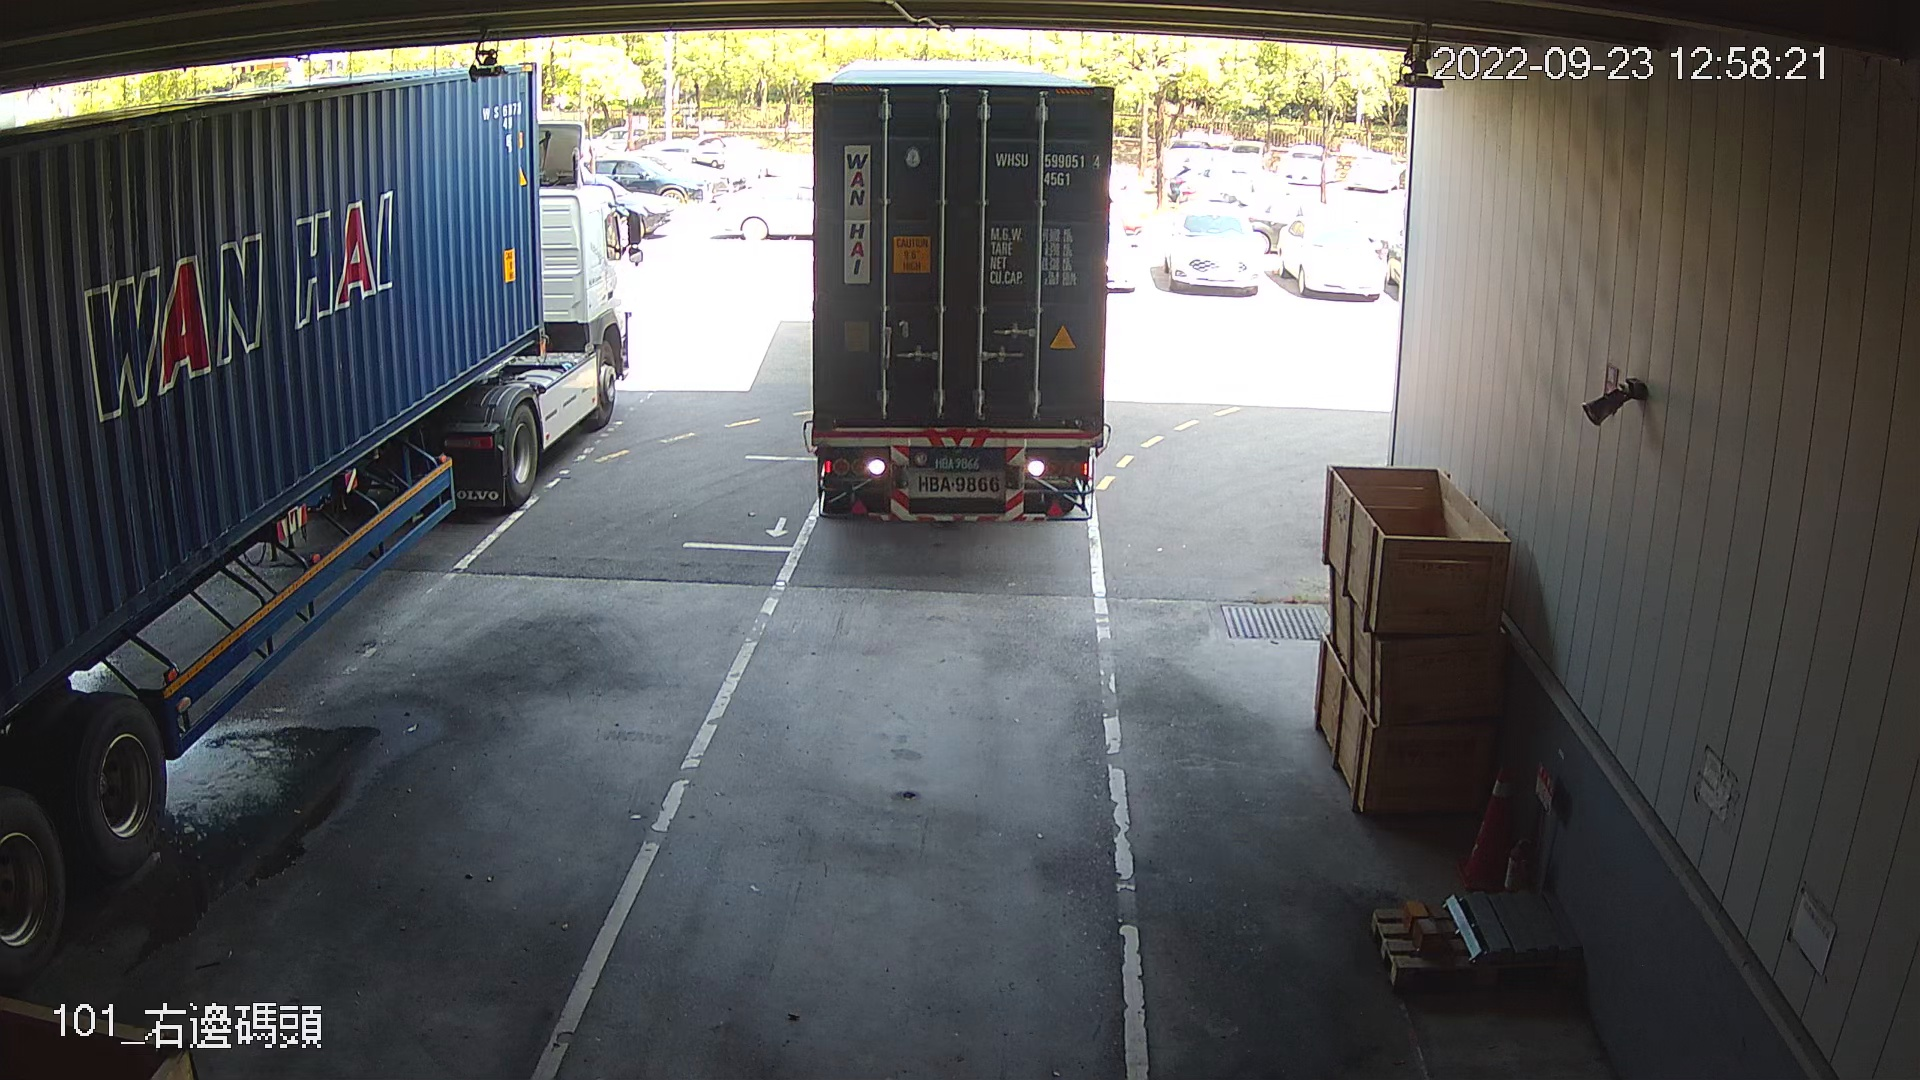container: (989, 145, 1106, 193)
